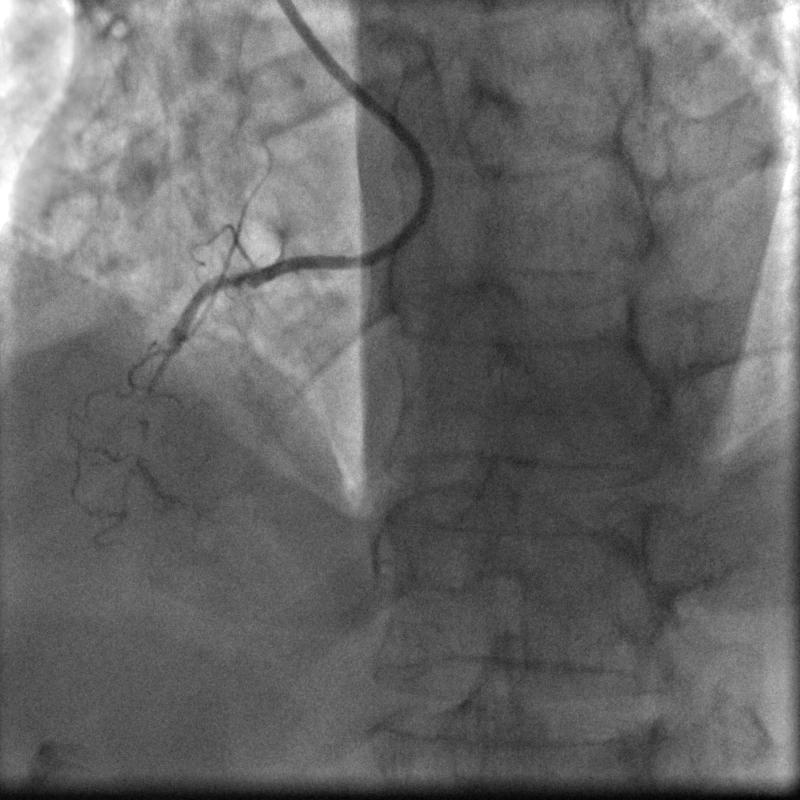Stenosis: (151, 324, 188, 404)
